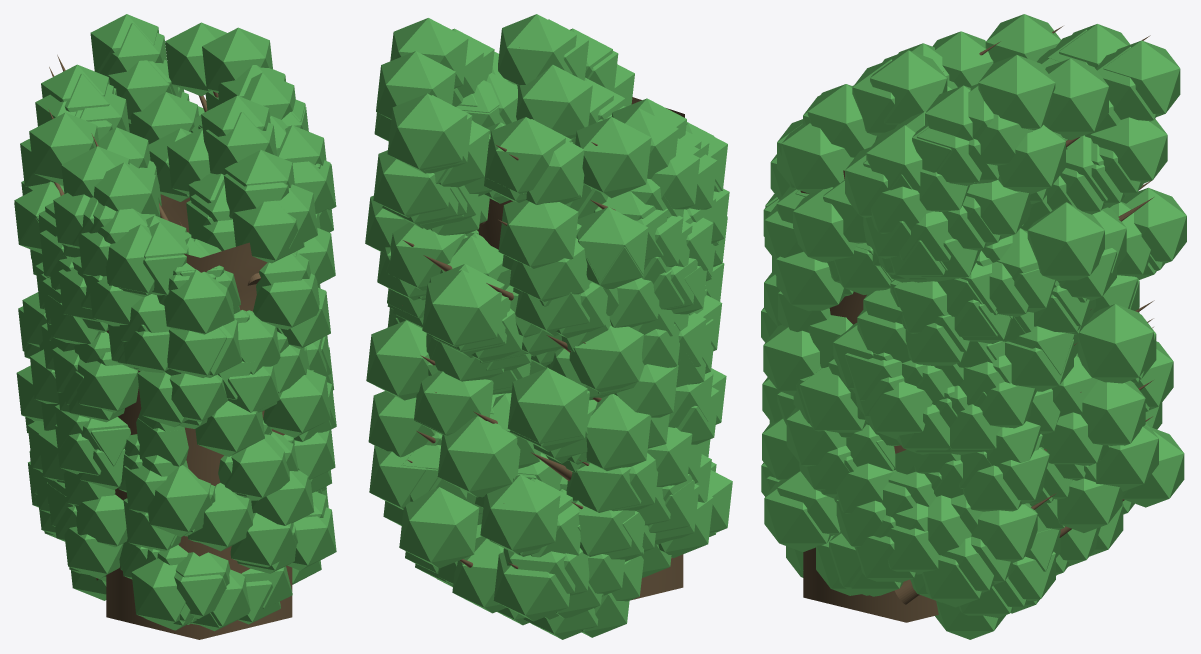
File: tree_var_3386.glb
3 renders of one model, left to right at view 1: azimuth 30°, elevation 25°; view 2: azimuth 150°, elevation 25°; view 3: azimuth 270°, elevation 25°, orthographic. The views are drawn at different scales.
Visible parts, largest first — view 1: tree_var_3386; view 2: tree_var_3386; view 3: tree_var_3386.
Part boxes in pixels (box(x1,y1,x2,y2)): tree_var_3386: box(14, 14, 336, 639); tree_var_3386: box(365, 14, 732, 639); tree_var_3386: box(761, 14, 1186, 639).
Size of the model in its own units: 2.82 by 5.53 by 3.57.
